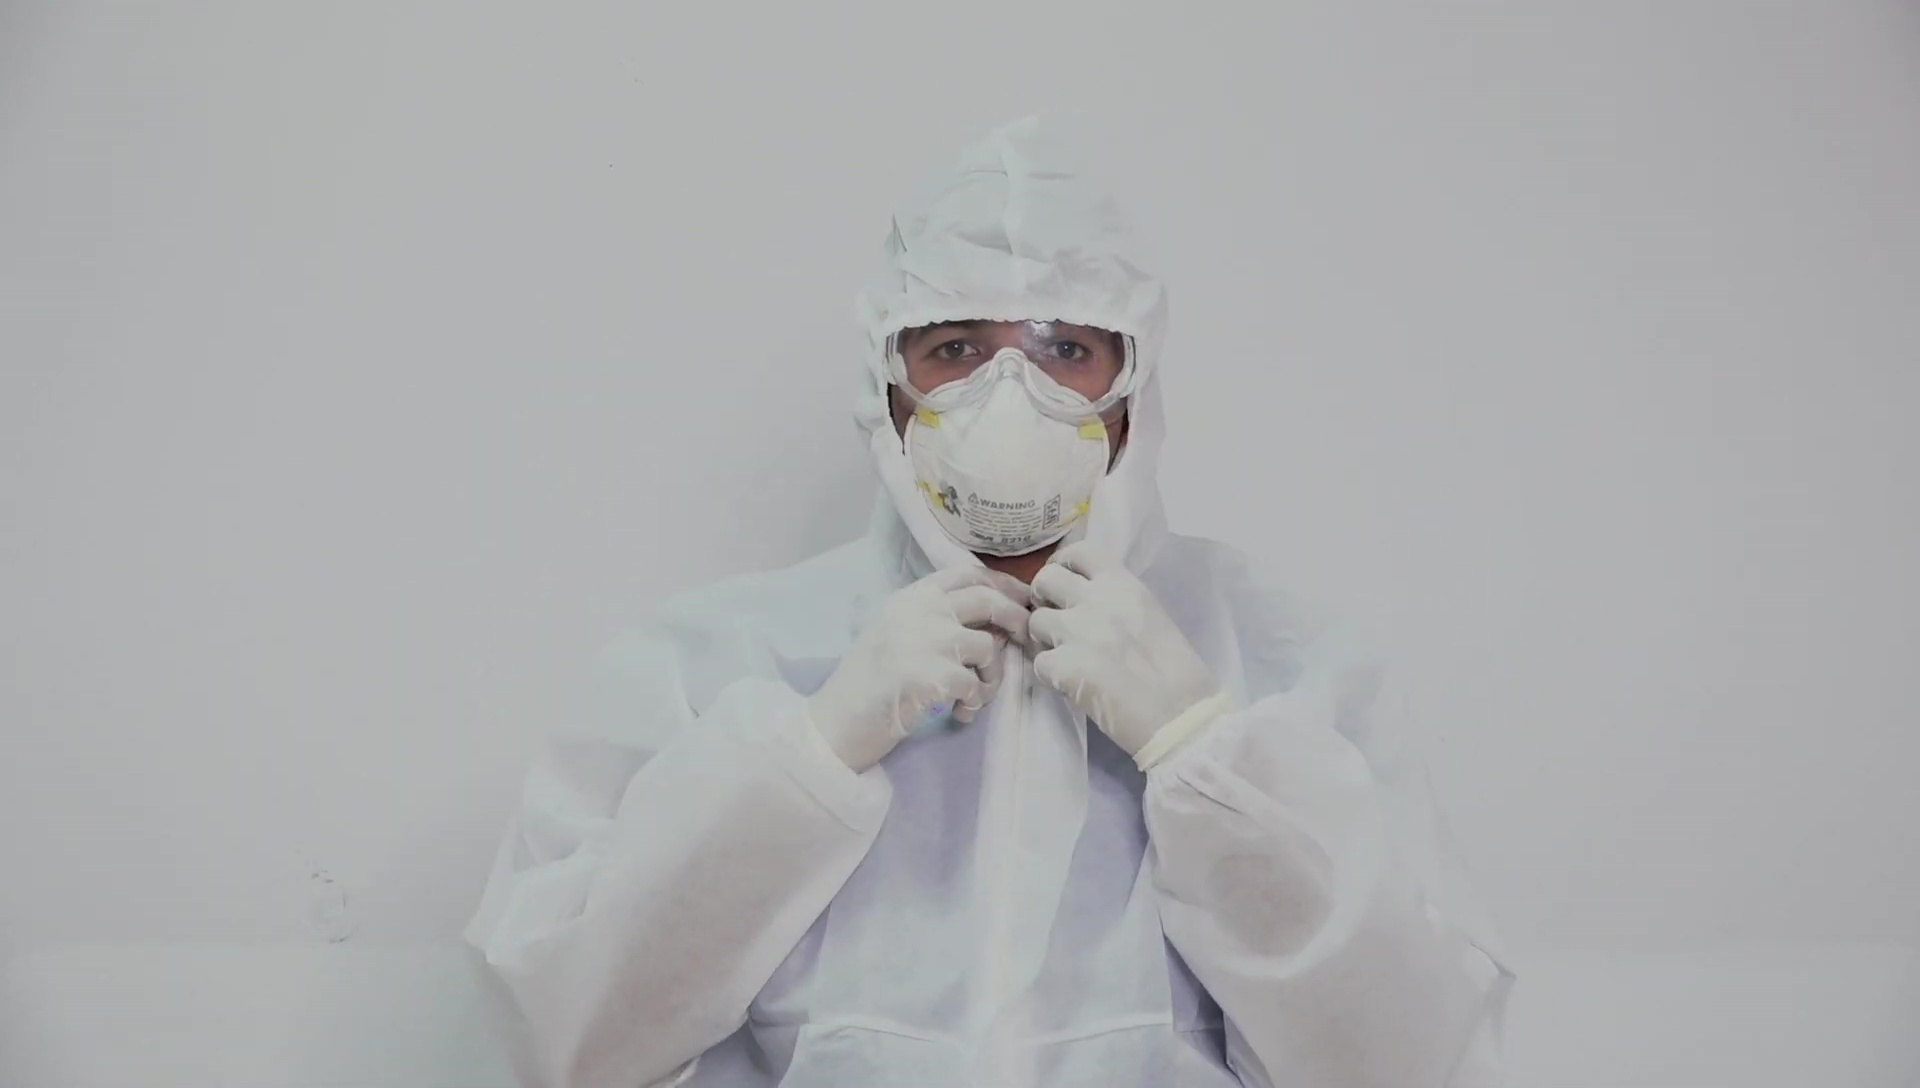Coverall: (462, 119, 1516, 1083)
Gloves: (803, 565, 1030, 778), (1026, 540, 1221, 774)
Goggles: (885, 319, 1143, 433)
with_mask: (905, 357, 1107, 557)
